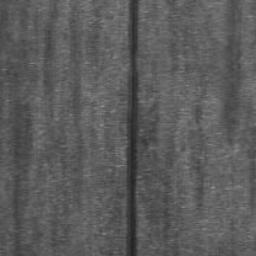Scratches: (126, 0, 138, 256)
